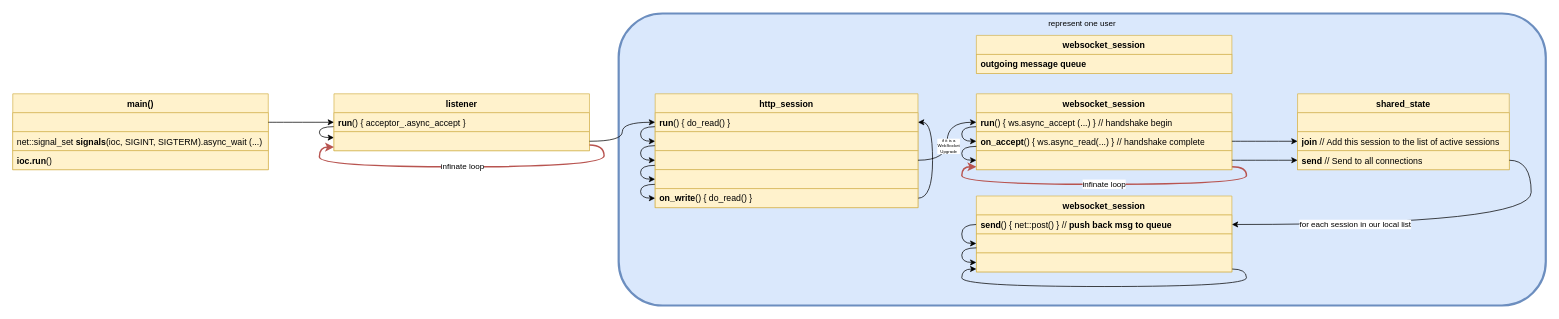
The diagram is 1559 pixels wide and 319 high, and some of its shapes have lost their labels. The centre of each missing label's shape, as x and y in pixels:
"beast::async_write () { on_write }" belongs at [786,179].
"do_read () { http ::async_read } // Read request" belongs at [786,141].
"listener (ioc, addr, port, shared_state) -> run()" belongs at [140,122].
"on_accept () { http_session (socket, shared_state) -> run() }" belongs at [461,141].
"on_read () { websocket_session (socket, shared_state) -> run() }" belongs at [786,160].
"on_read () { ws.async_read(...) } // read msg from socket" belongs at [1104,160].
"on_send () { ws.async_write(...) }" belongs at [1104,243].
"on_write () { ws.async_write(...) } // while queue is not empty" belongs at [1104,262].
"sessions list" belongs at [1403,122].
